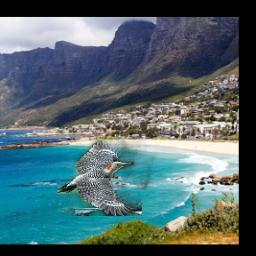Woodpecker: (58, 138, 142, 216), (116, 47, 161, 190)
